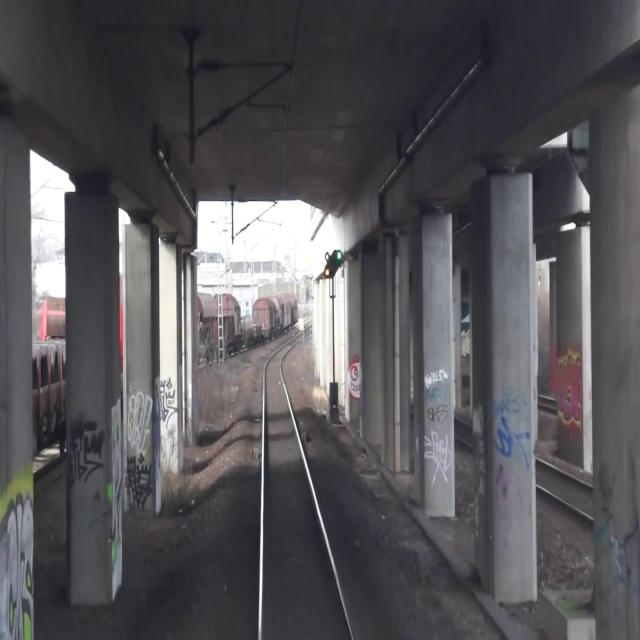rail-track: (263, 343, 349, 639)
